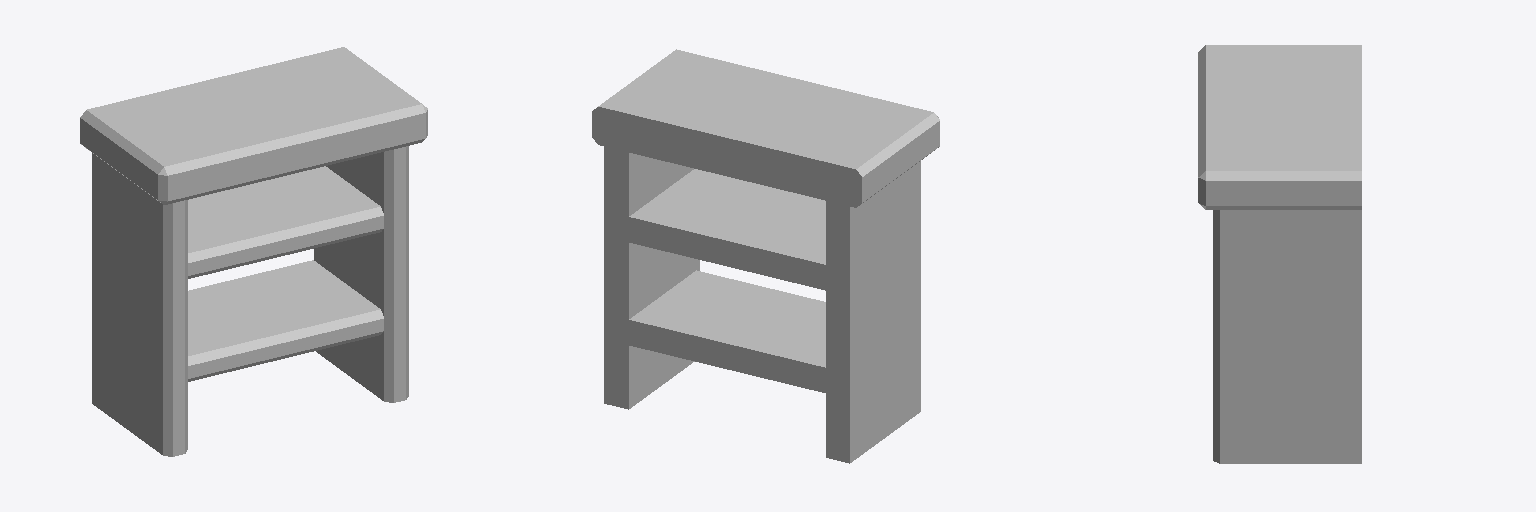
File: countertop_closet_A_large.obj
The picture shows the model from 3 angles: view 1: azimuth 30°, elevation 25°; view 2: azimuth 150°, elevation 25°; view 3: azimuth 270°, elevation 25°; orthographic projection.
Parts seen in each view (by area): view 1: countertop_closet_A_large; view 2: countertop_closet_A_large; view 3: countertop_closet_A_large.
Boxes of the visible parts, x1,y1,x2,y2 form: countertop_closet_A_large: [80, 47, 427, 456]; countertop_closet_A_large: [592, 49, 939, 463]; countertop_closet_A_large: [1198, 45, 1361, 463].
Bounding box in the file's own units: 2.2 × 2.3 × 1.15.